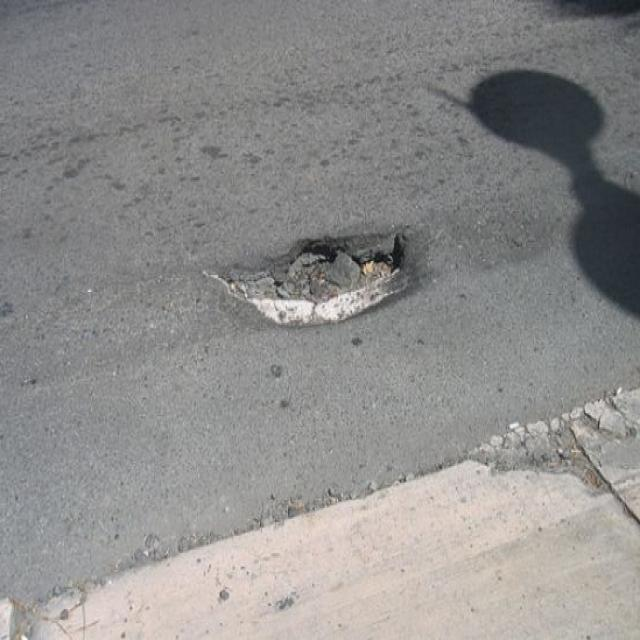Pothole: (203, 221, 427, 332)
